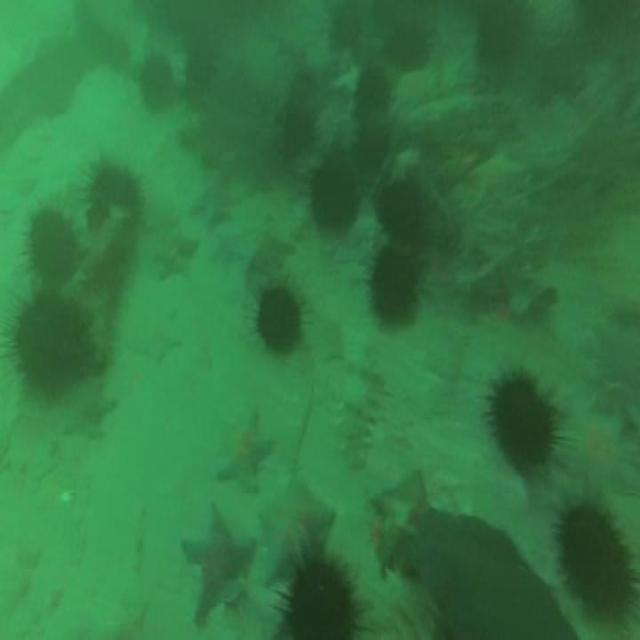echinus: (559, 501, 634, 627), (12, 300, 89, 395), (491, 372, 558, 469), (284, 554, 358, 640), (26, 209, 81, 281), (370, 248, 418, 324), (313, 163, 360, 234), (254, 286, 302, 351), (376, 180, 420, 240), (139, 57, 176, 114), (284, 93, 314, 161), (92, 162, 136, 206), (388, 26, 426, 70), (356, 68, 388, 109)
holothurian: (344, 352, 386, 479)
starfish: (182, 504, 252, 613), (262, 487, 335, 578), (572, 406, 634, 503), (214, 402, 270, 492), (129, 305, 183, 367), (65, 383, 110, 436), (156, 229, 196, 283), (207, 228, 243, 266)
